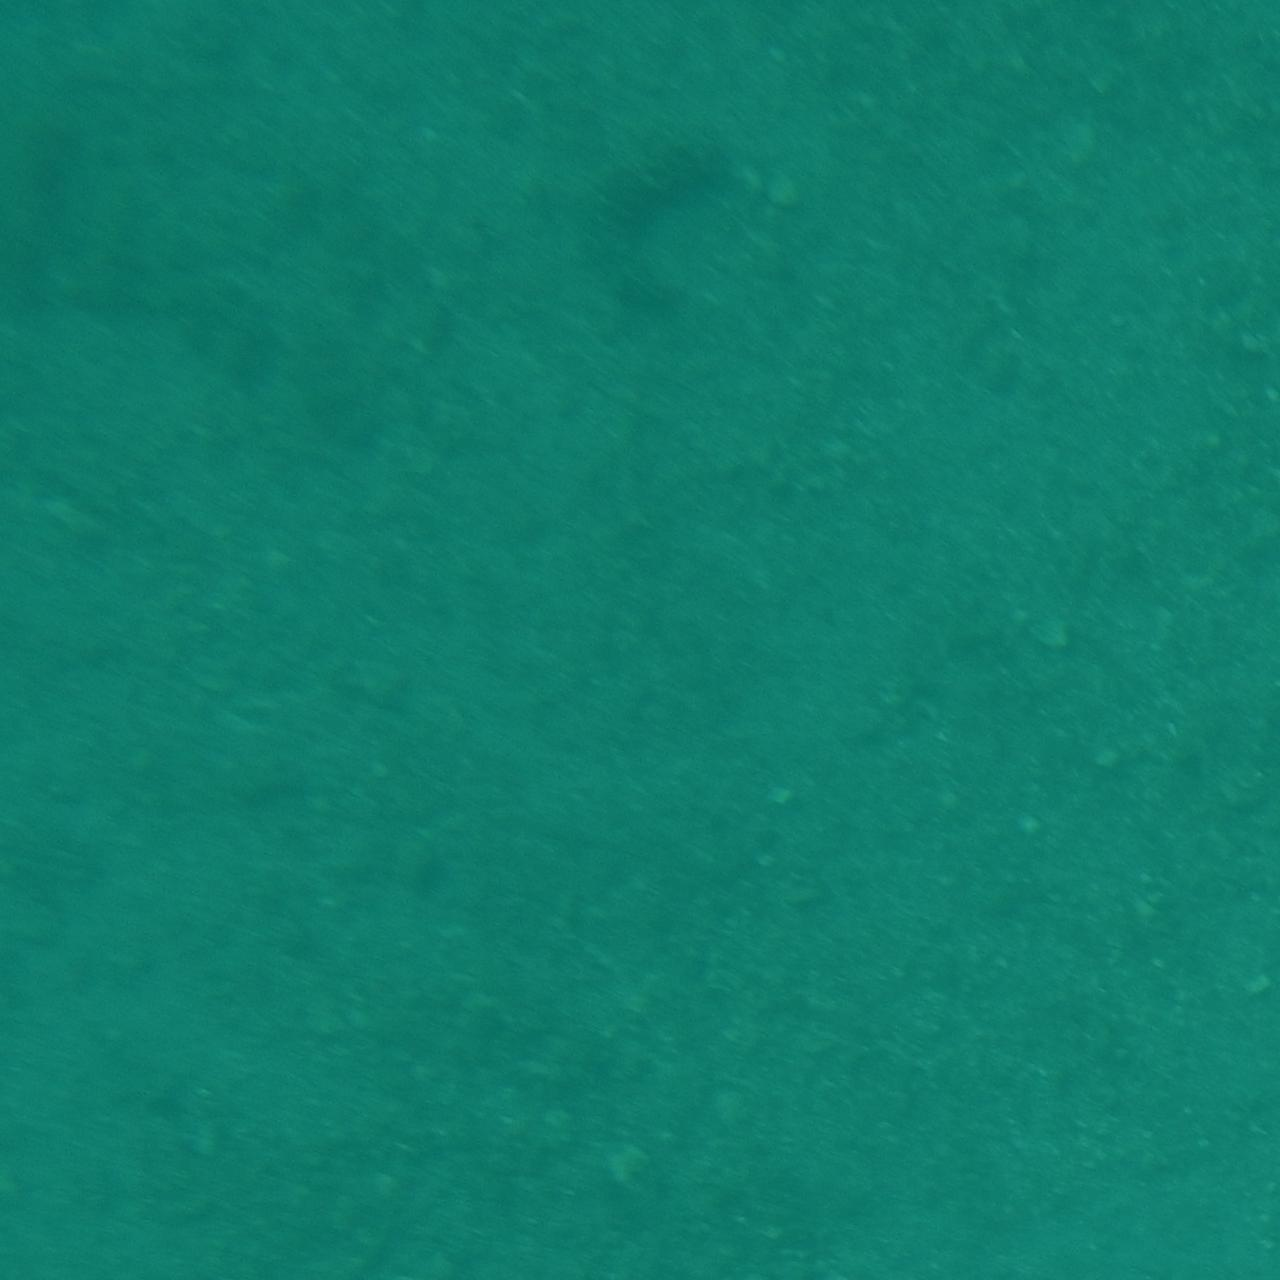Holothuria tubulosa: (549, 115, 731, 343)
